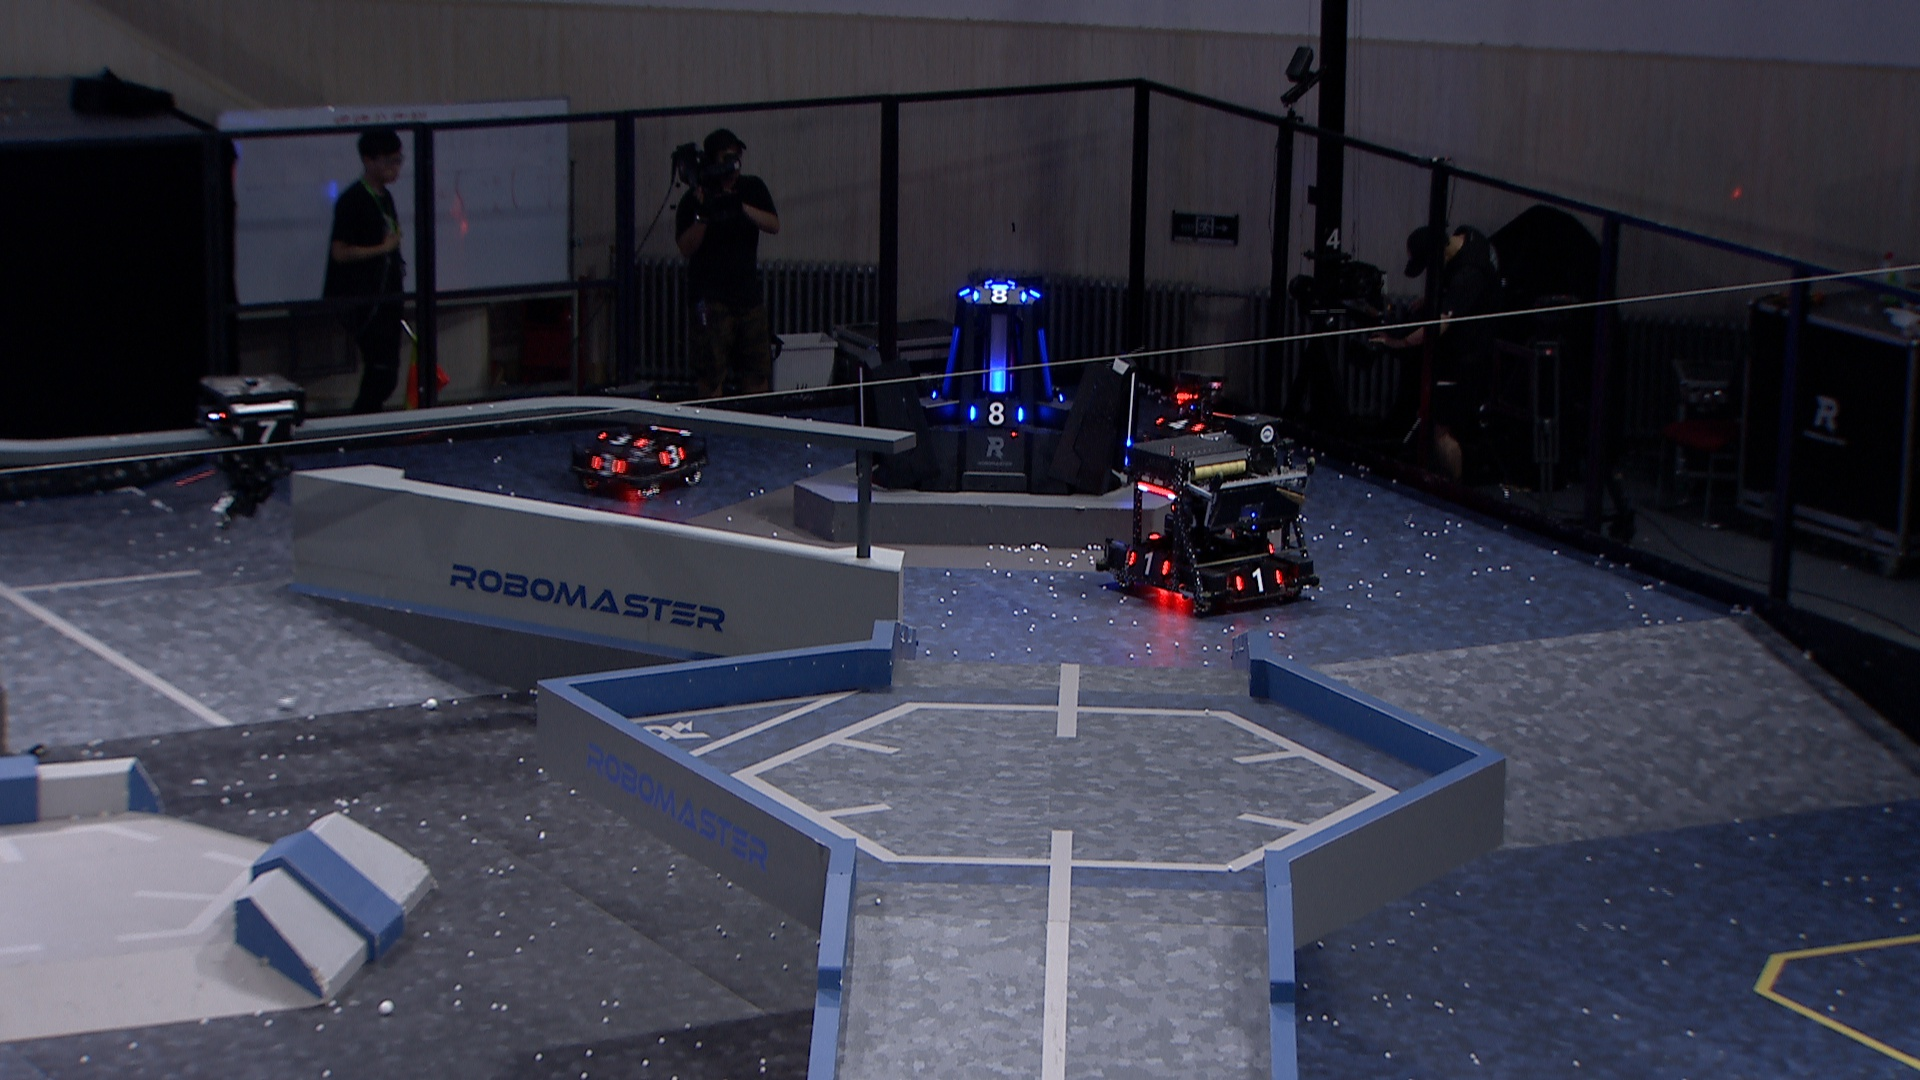armor: (229, 415, 299, 452), (1229, 562, 1288, 603), (939, 320, 967, 392), (1125, 545, 1176, 580), (1033, 327, 1059, 396), (967, 400, 1025, 429), (968, 282, 1029, 309), (596, 425, 647, 452), (1153, 411, 1207, 436), (588, 450, 628, 483), (655, 442, 688, 469), (988, 367, 1010, 400), (1122, 438, 1135, 465)
base: (849, 272, 1150, 498)
car: (1097, 429, 1321, 617), (564, 376, 713, 500), (1139, 372, 1247, 467)
watcher: (195, 367, 314, 531)
